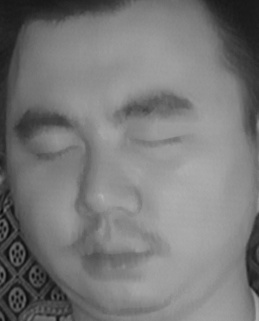blink: (29, 134, 83, 170), (131, 121, 181, 159)
mouth: (71, 227, 154, 283)
